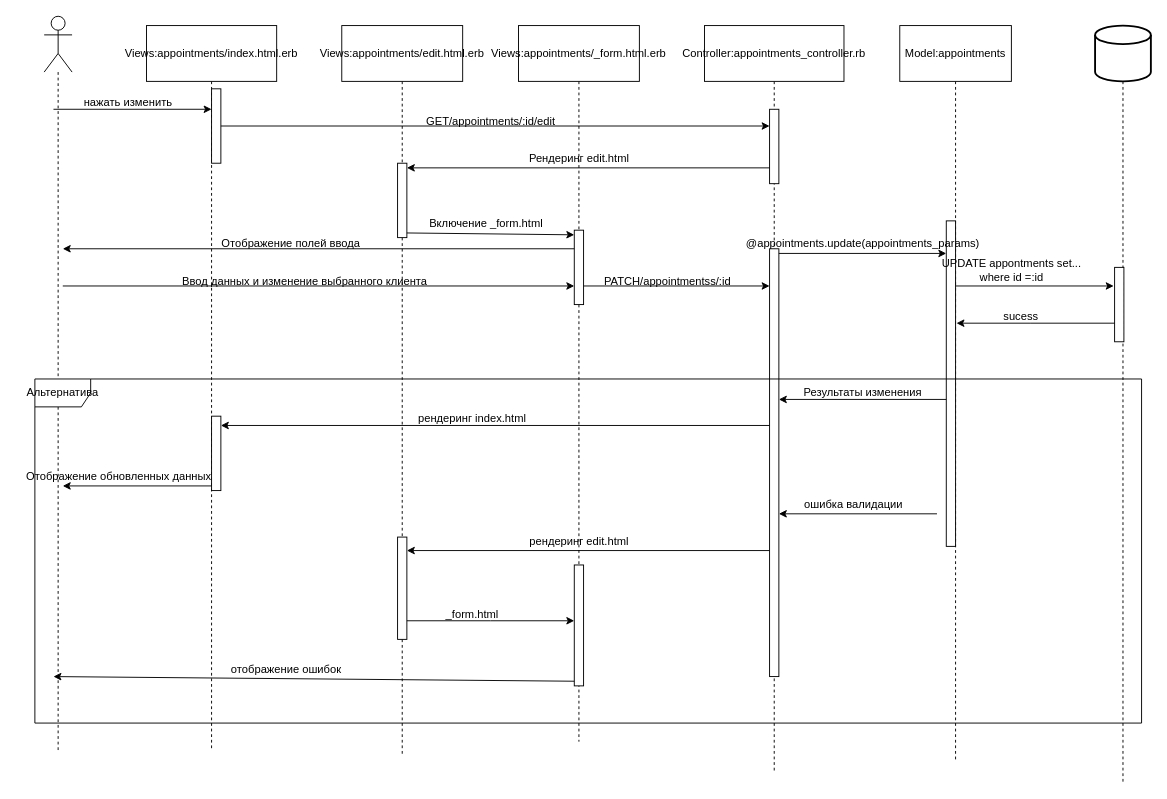
Image size: 1167x799. Some labels were removed from this diagram. The shapes that lost their labels are listed below. From the top down, each one's centre as x and y in pixels, then its label:
At (x=57, y=43): "USER".
At (x=1122, y=53): "DB".
